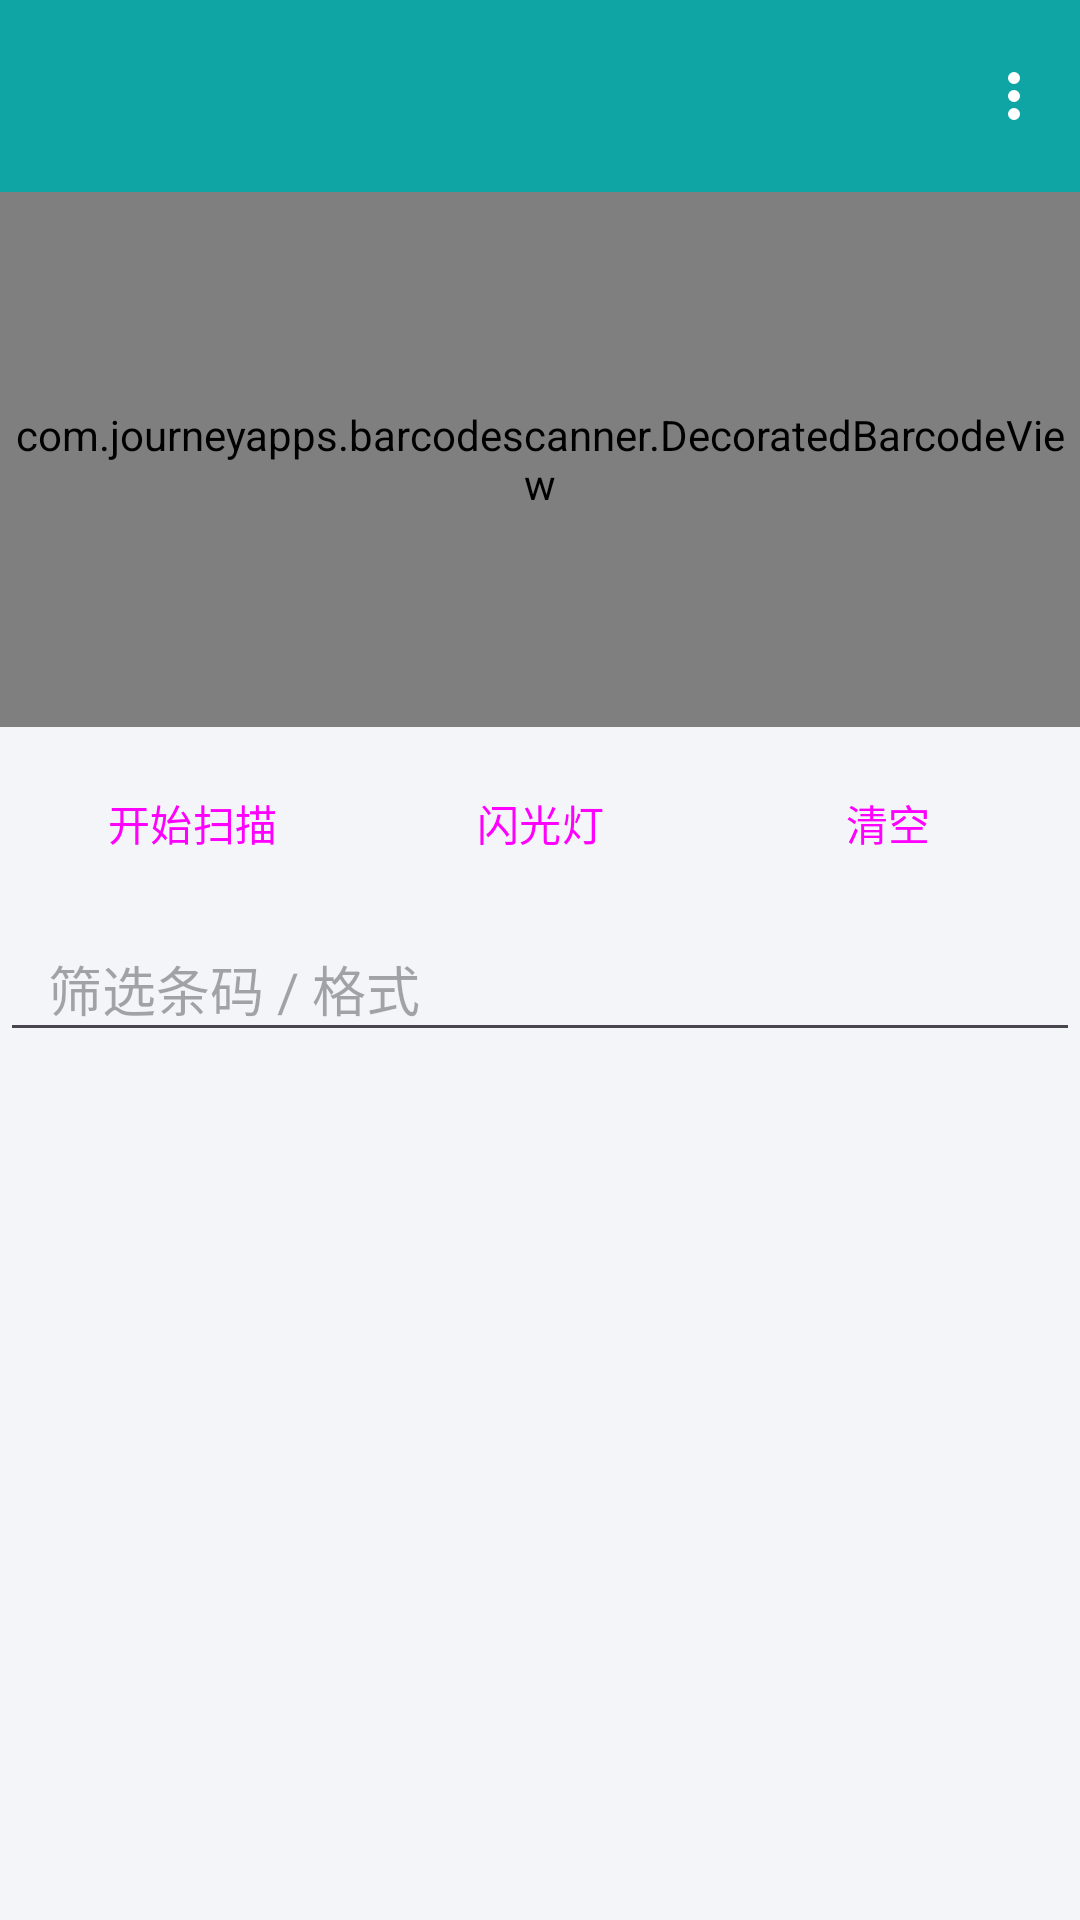

Icon click points for this 1080*1920 phone screenshot, format [x,y]:
菜单: [1014,96]
